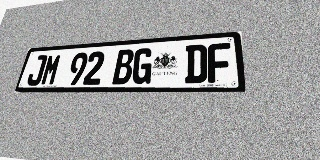2: (83, 51, 105, 85)
9: (66, 52, 89, 85)
B: (112, 49, 135, 84)
D: (185, 44, 207, 83)
F: (208, 43, 232, 83)
G: (131, 48, 154, 84)
J: (26, 55, 48, 86)
M: (40, 54, 62, 86)
